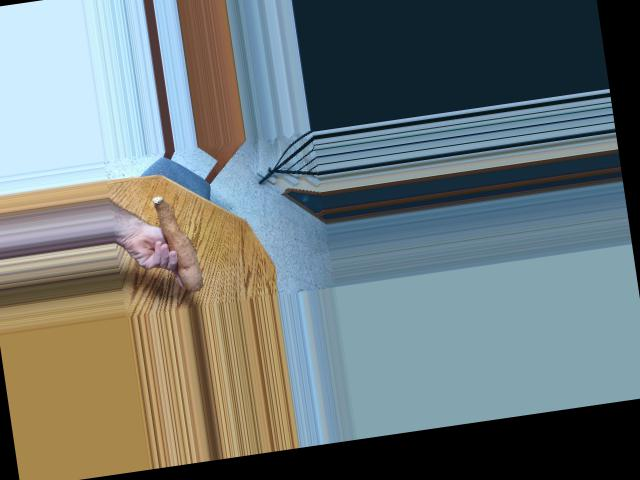sweet_potato: (148, 190, 206, 297)
